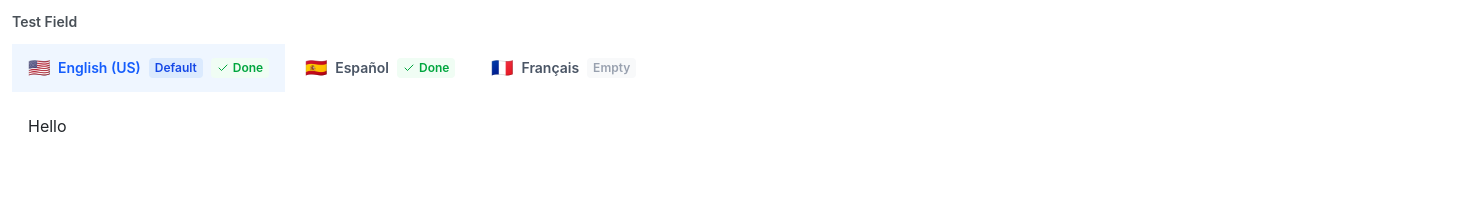
Test case: TranslatableInput Component › Tab Switching › should show correct value when switching tabs
This screenshot has width=1464, height=197.
Expected: the field holds "Hello", [12,104,1452,148]
Click the button "🇪🇸 Español Done" at (380, 68), box [289,44,472,92]
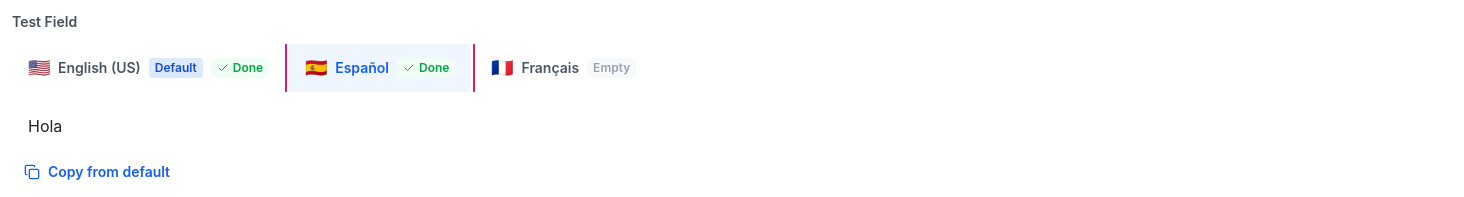
Now the field holds "Hola", box [12,104,1452,148]
